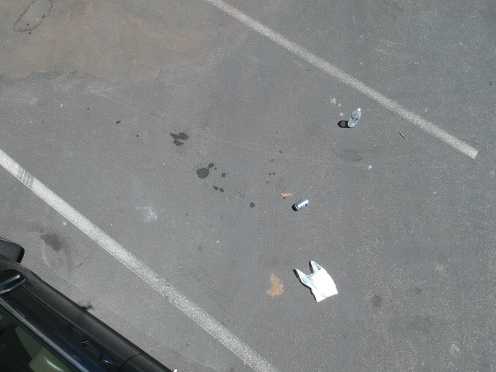bottle: (345, 106, 365, 130)
can: (288, 195, 314, 214)
plastic bag: (290, 257, 342, 306)
